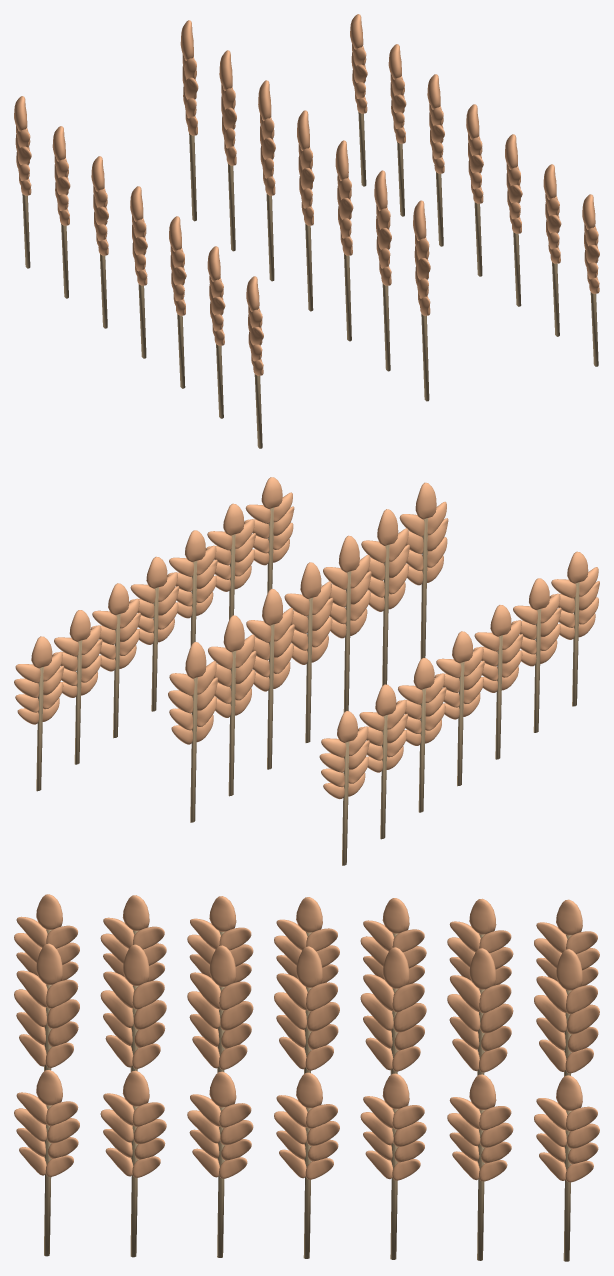
Rendered from Wheat2.fbx.
3 views of the same model, one above another, from view 1: azimuth 30°, elevation 25°; view 2: azimuth 150°, elevation 25°; view 3: azimuth 270°, elevation 25° (orthographic). The views are drawn at different scales.
Visible parts, largest first — view 1: Cube.001, Cube.002, Cube.003; view 2: Cube.001, Cube.002, Cube.003; view 3: Cube.001, Cube.003, Cube.002.
Part boxes in pixels (x1=…): Cube.001: x1=180, y1=20, x2=430, y2=401; Cube.002: x1=14, y1=96, x2=263, y2=448; Cube.003: x1=350, y1=14, x2=599, y2=366; Cube.001: x1=168, y1=482, x2=448, y2=822; Cube.002: x1=319, y1=551, x2=599, y2=865; Cube.003: x1=14, y1=477, x2=294, y2=791; Cube.001: x1=14, y1=943, x2=599, y2=1163; Cube.003: x1=14, y1=1070, x2=599, y2=1261; Cube.002: x1=14, y1=894, x2=599, y2=1076.
Bounding box in the file's own units: 59.28 × 31.29 × 75.17.
